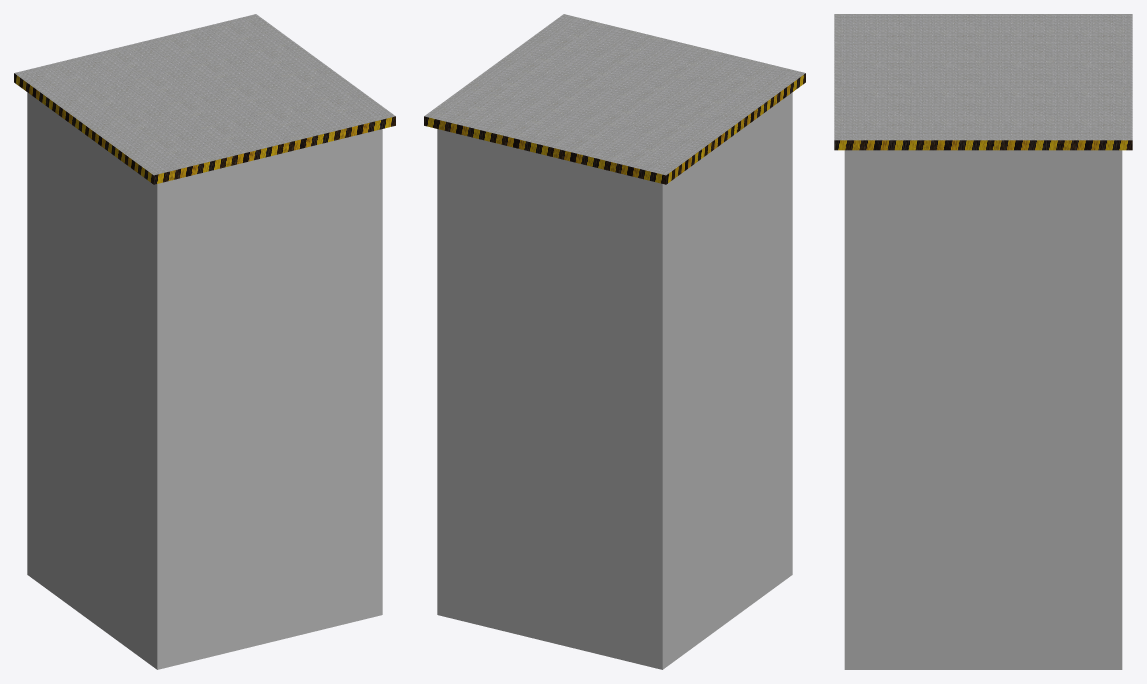
File: BigTestingRoom_Platform.FBX
3 renders of one model, left to right at view 1: azimuth 30°, elevation 25°; view 2: azimuth 150°, elevation 25°; view 3: azimuth 270°, elevation 25°, orthographic. The views are drawn at different scales.
Visible parts, largest first — view 1: BigTestingRoom_Platform_mesh; view 2: BigTestingRoom_Platform_mesh; view 3: BigTestingRoom_Platform_mesh.
Part boxes in pixels (left/top/right/bottom): BigTestingRoom_Platform_mesh: left=14, top=14, right=395, bottom=669; BigTestingRoom_Platform_mesh: left=424, top=14, right=805, bottom=669; BigTestingRoom_Platform_mesh: left=834, top=14, right=1132, bottom=669.
Bounding box in the file's own units: 850 × 1678 × 850.
